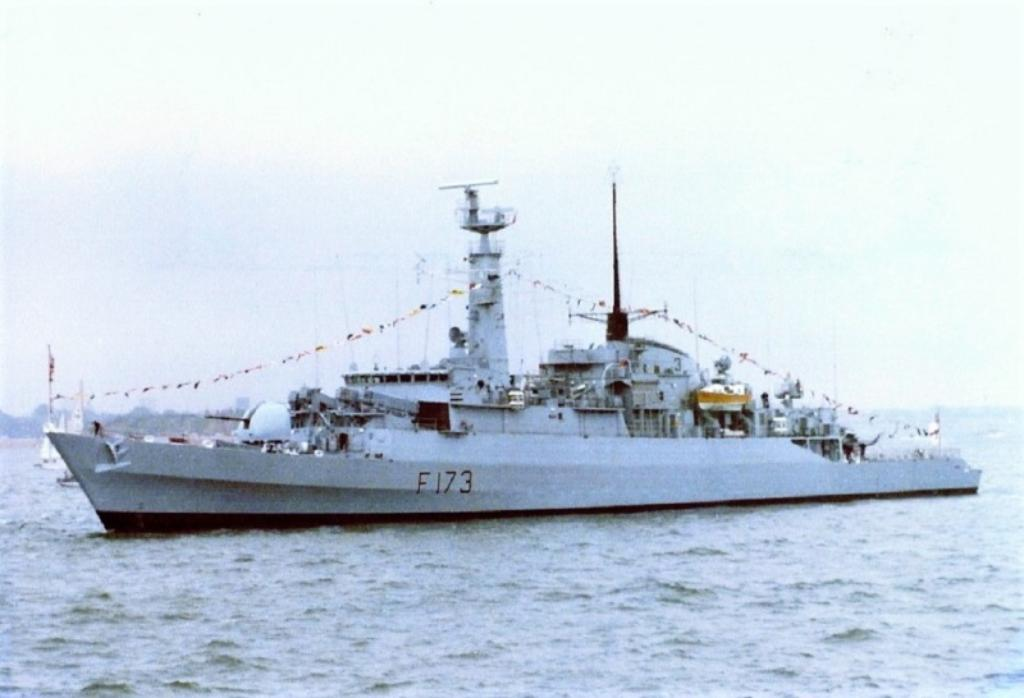Warship: (46, 168, 980, 538)
